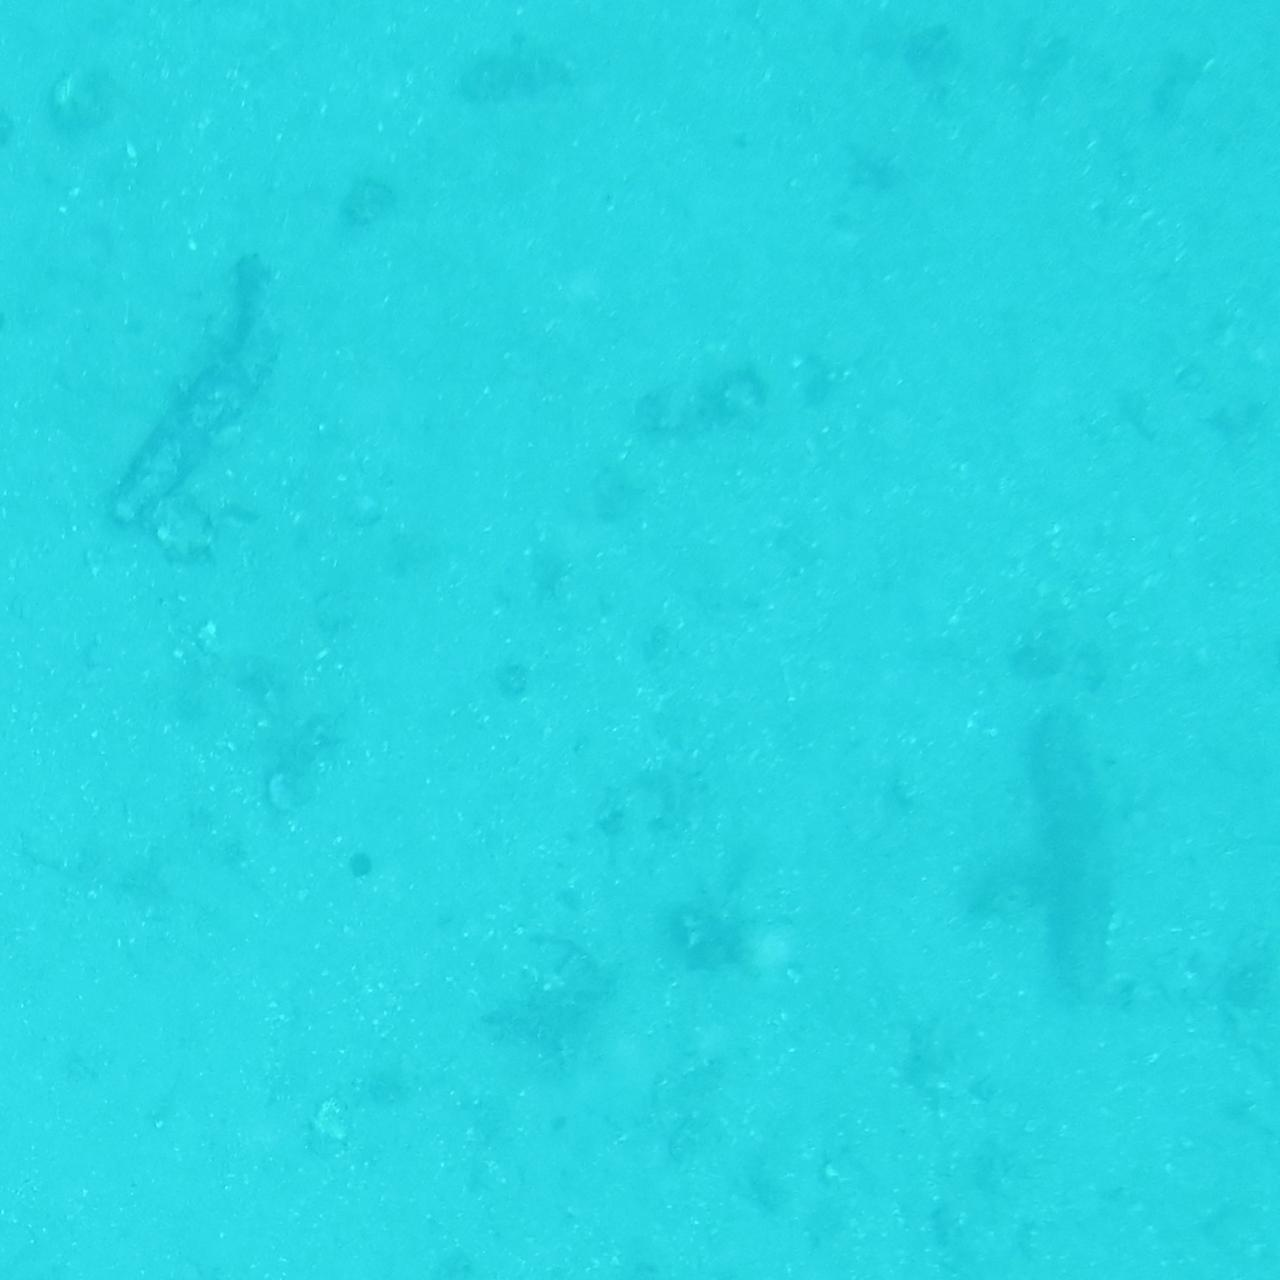Holothuria tubulosa: (110, 248, 300, 538), (1007, 721, 1144, 1054)
